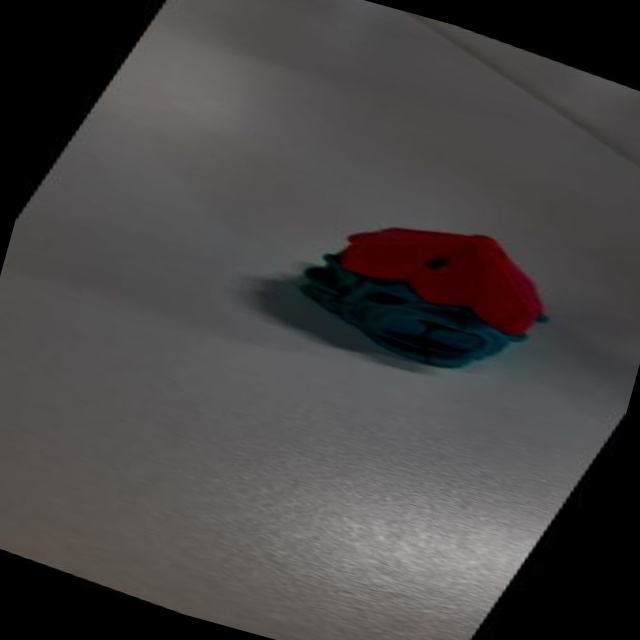House: (247, 161, 595, 407)
